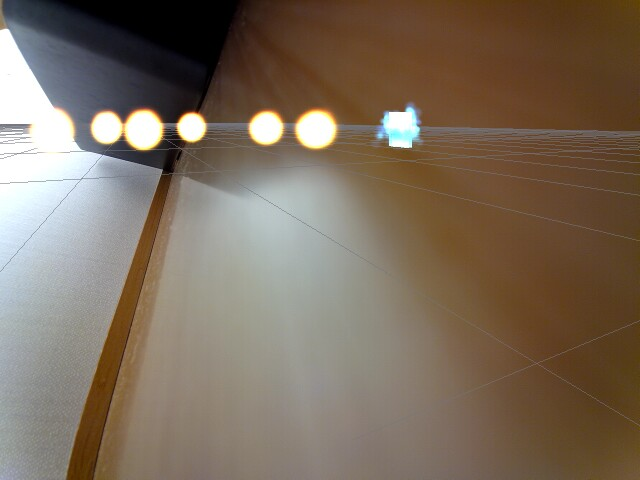firebig: (22, 100, 77, 147)
